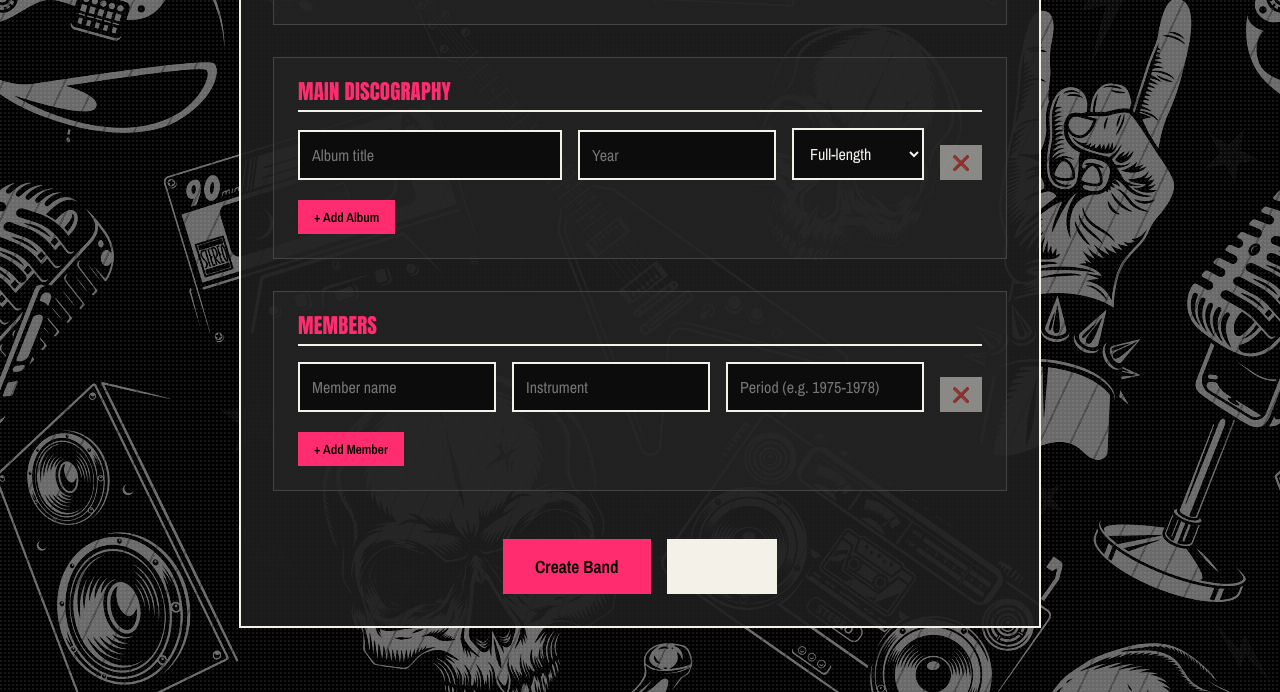
it: AddBandForm › adds member rows
(page scrolled)
Click the button "+ Add Member" at [351, 449], box [298,432,404,466]
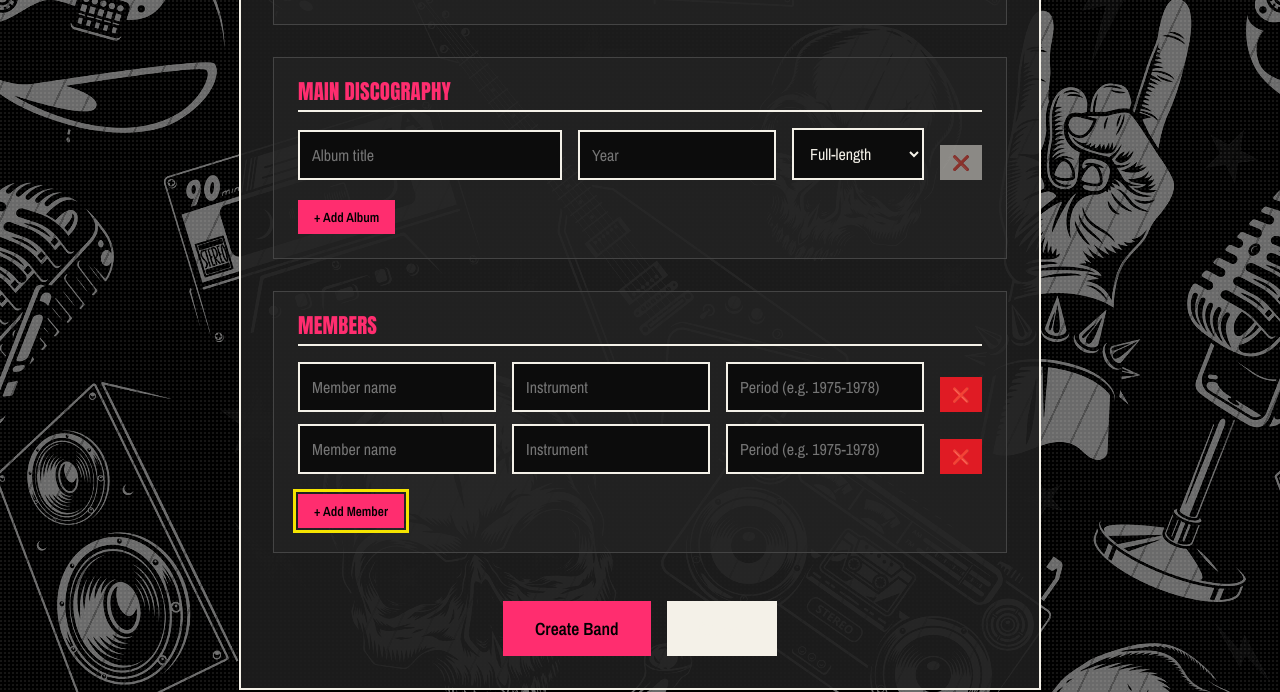
Expected: the number of fields labelled "Member name" is 2, [298,362,496,412]; [298,424,496,474]
